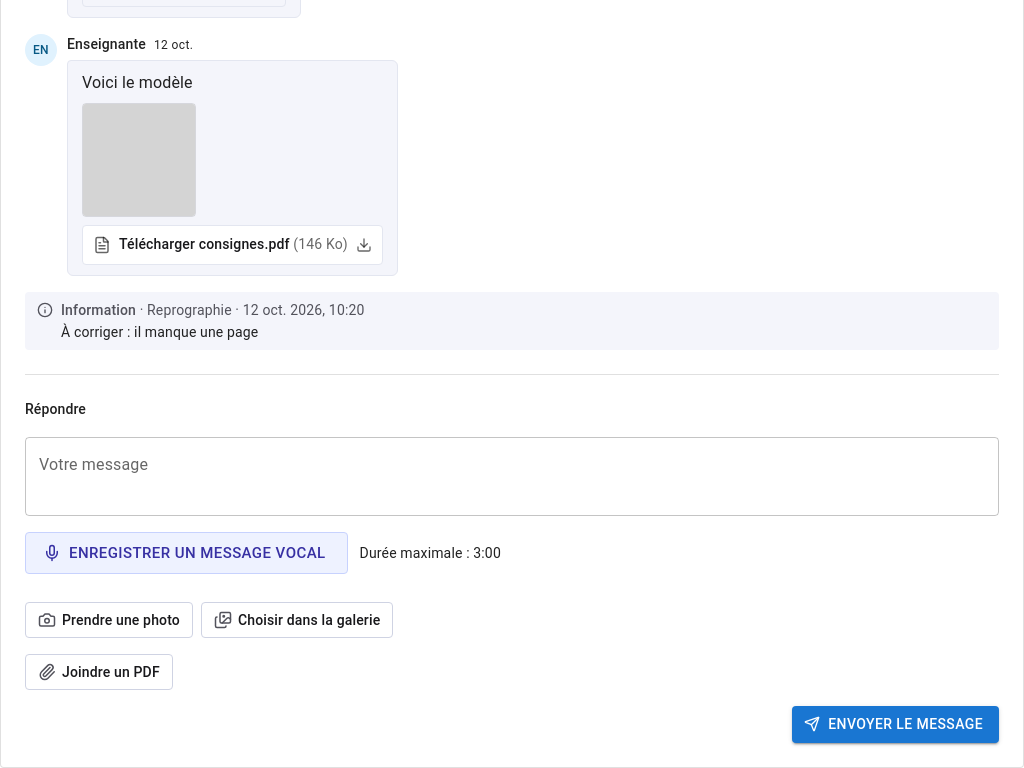
Test: ThreadPanel › refuse un message vide
(page scrolled)
Step 1. Click the button "Envoyer le message" → {"x": 896, "y": 724}, box [792,706,999,743]
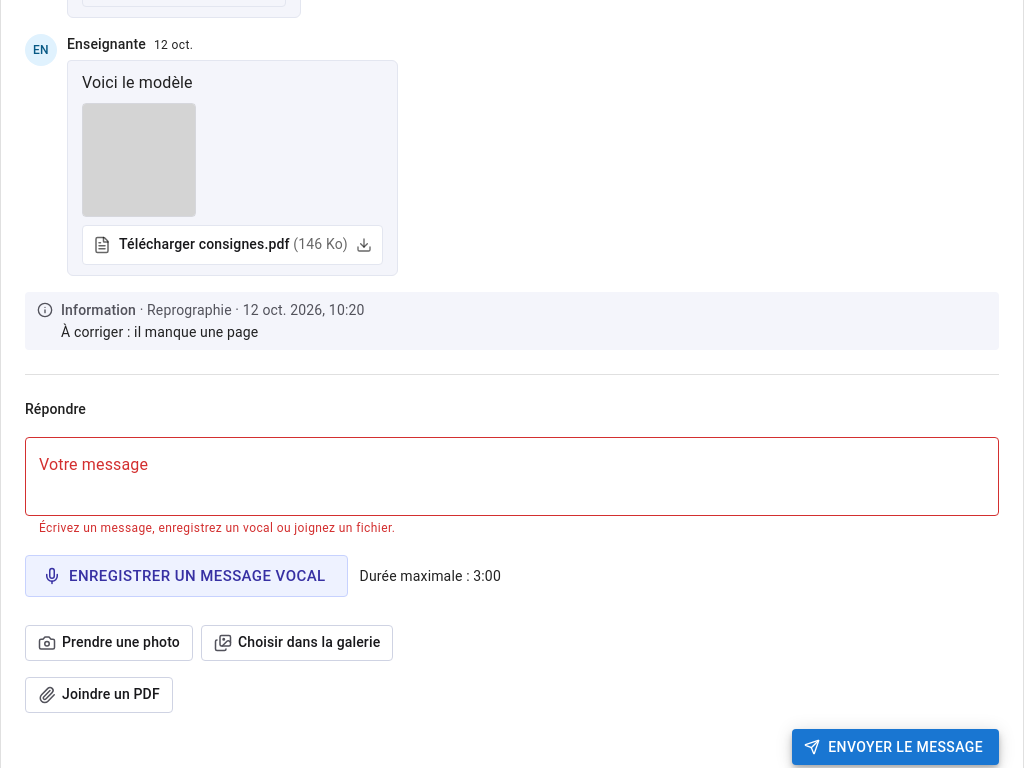
Expected: the text "Écrivez un message, enregistrez un vocal ou joignez un fichier." is shown, [39,521,395,535]
